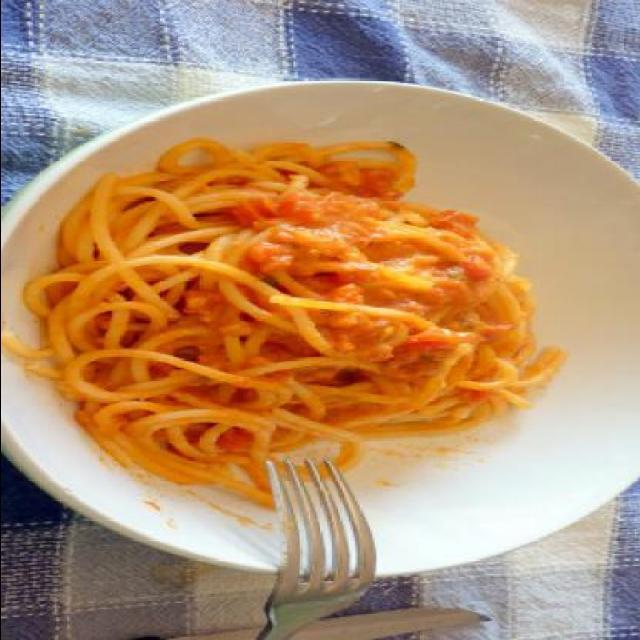Pasta al ragu: (39, 147, 572, 516)
